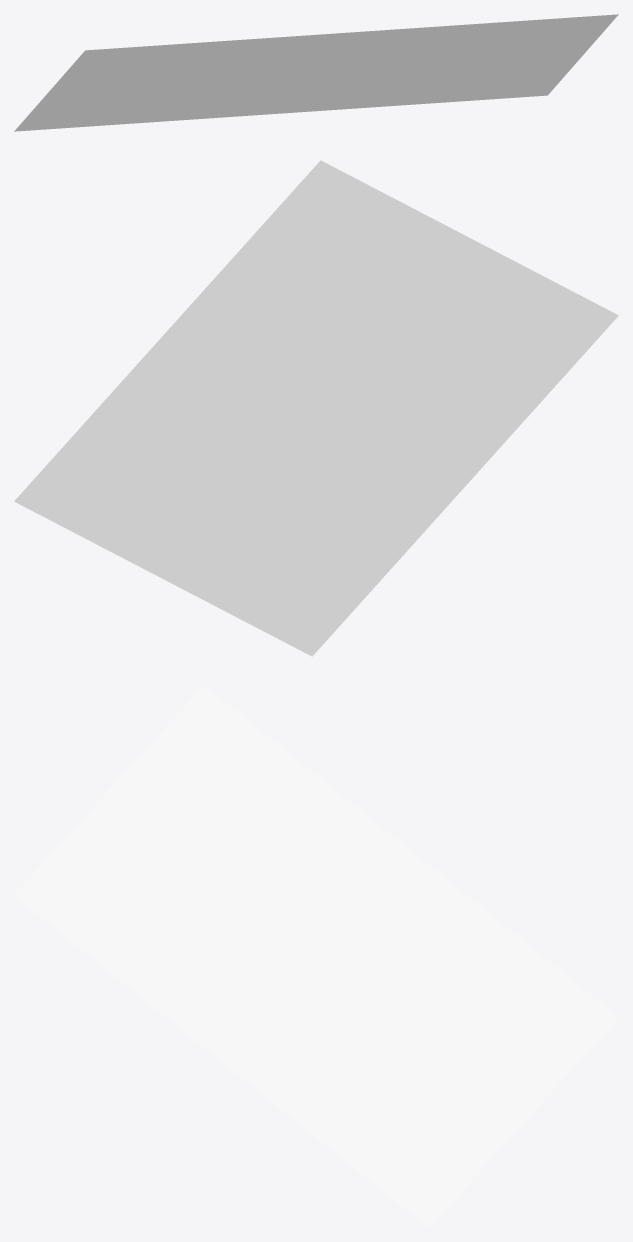
3 views of the same model, one above another, from view 1: azimuth 30°, elevation 25°; view 2: azimuth 150°, elevation 25°; view 3: azimuth 270°, elevation 25° (orthographic). The views are drawn at different scales.
Visible parts, largest first — view 1: obj1; view 2: obj1; view 3: obj1.
Part boxes in pixels (x1,y1,x2,y2): obj1: [14, 14, 618, 131]; obj1: [14, 160, 618, 656]; obj1: [14, 685, 618, 1227].
Bounding box in the file's own units: 1.23 × 0.5502 × 1.14.
Materials: 1 (1 with a texture image).
